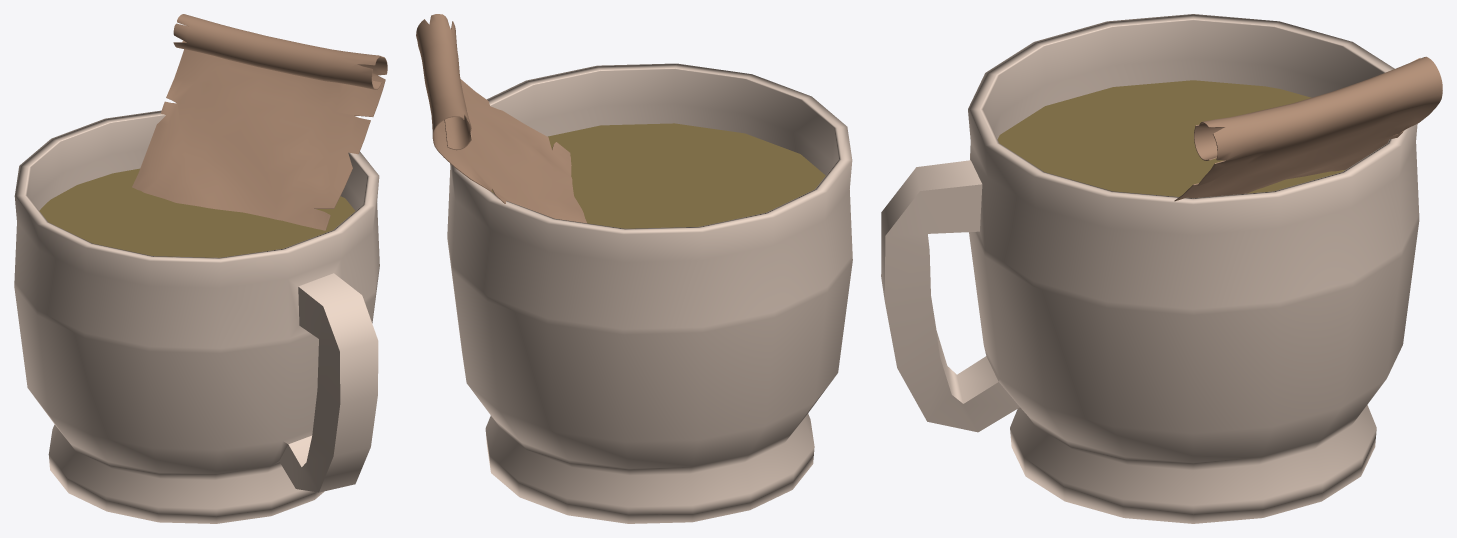
The model's file is drink6_papery.fbx.
3 views of the same model, side by side, from view 1: azimuth 30°, elevation 25°; view 2: azimuth 150°, elevation 25°; view 3: azimuth 270°, elevation 25° (orthographic). The views are drawn at different scales.
Parts seen in each view (by area): view 1: nurbsToPoly1, _Pirate_Treasure_map_Scroll_v1_L1:PirateTreasuremapScroll, pDisc1; view 2: nurbsToPoly1, pDisc1, _Pirate_Treasure_map_Scroll_v1_L1:PirateTreasuremapScroll; view 3: nurbsToPoly1, pDisc1, _Pirate_Treasure_map_Scroll_v1_L1:PirateTreasuremapScroll.
Boxes of the visible parts, <box> form: nurbsToPoly1: <box>14,110,379,523</box>; _Pirate_Treasure_map_Scroll_v1_L1:PirateTreasuremapScroll: <box>132,14,387,230</box>; pDisc1: <box>39,168,355,257</box>; nurbsToPoly1: <box>447,63,852,523</box>; pDisc1: <box>491,123,825,228</box>; _Pirate_Treasure_map_Scroll_v1_L1:PirateTreasuremapScroll: <box>416,14,586,223</box>; nurbsToPoly1: <box>881,14,1419,523</box>; pDisc1: <box>997,80,1344,196</box>; _Pirate_Treasure_map_Scroll_v1_L1:PirateTreasuremapScroll: <box>1174,56,1442,201</box>.
Bounding box in the file's own units: 34.57 × 32.65 × 38.07.
